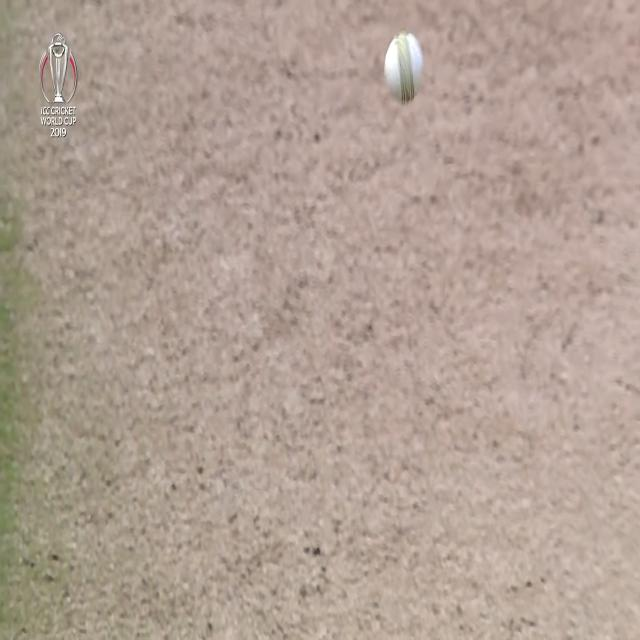Cricket ball: (385, 31, 424, 104)
